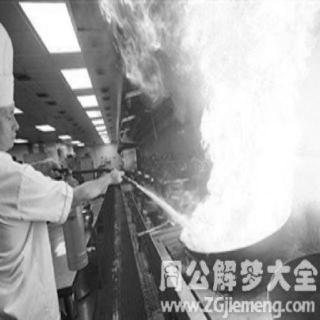Fire: (94, 2, 318, 248)
other: (52, 167, 92, 279), (0, 104, 18, 151)
